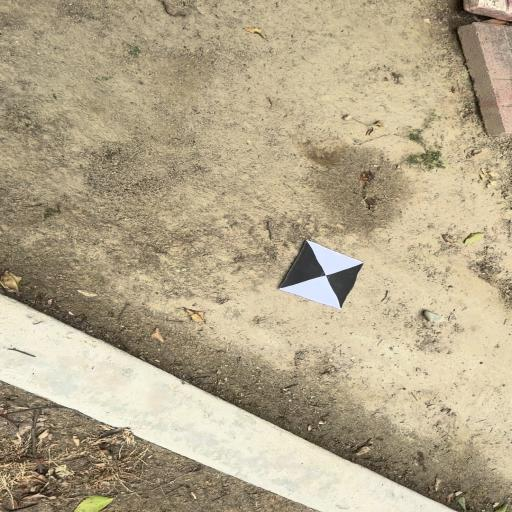target: (280, 240, 364, 308)
